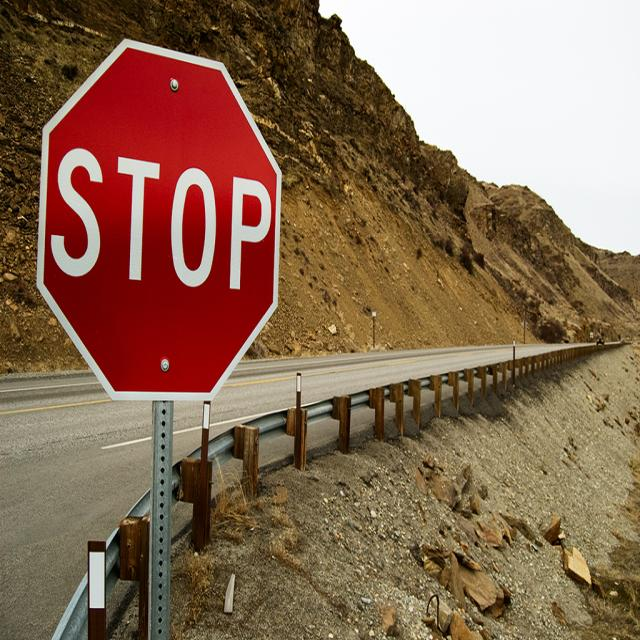Stop-sign: (34, 35, 281, 403)
